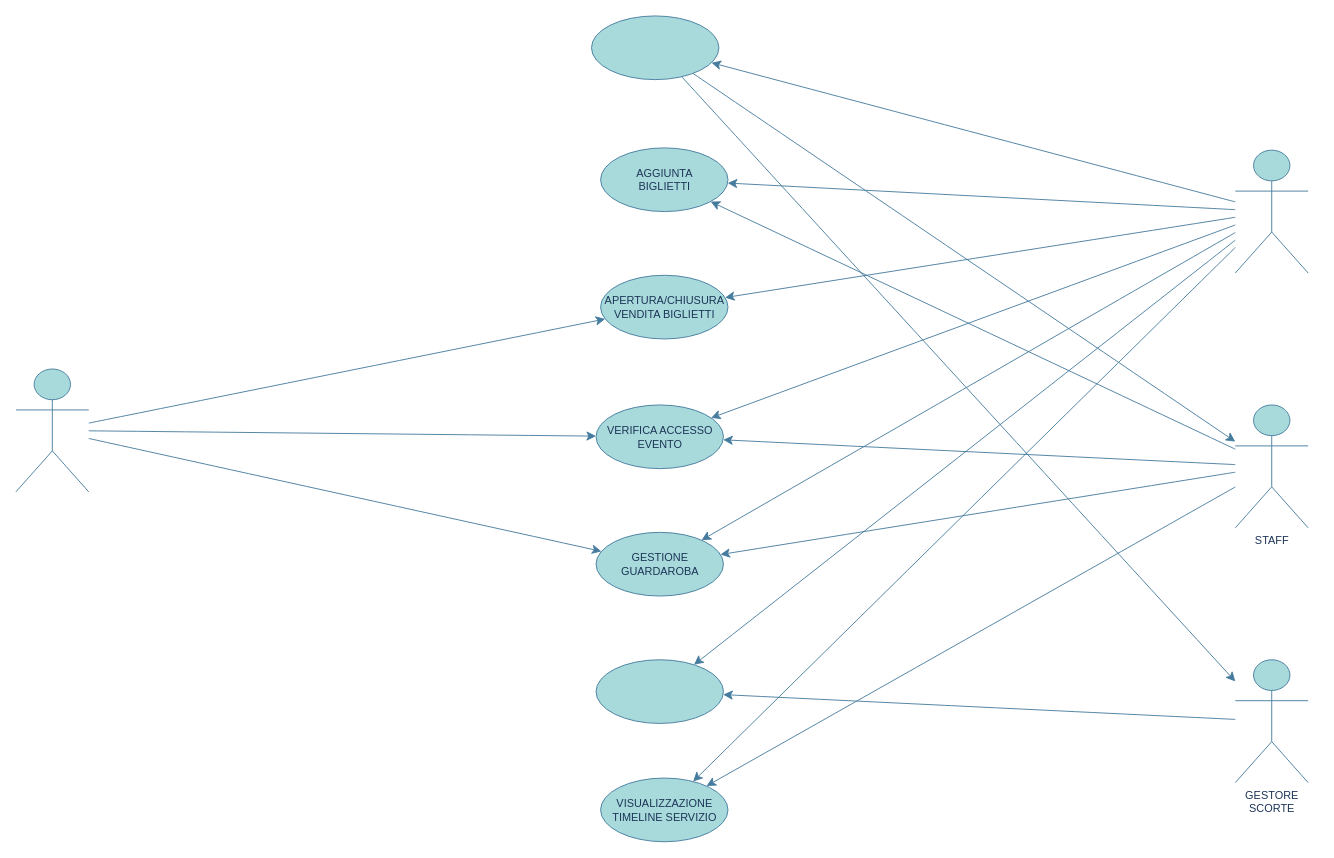
Image size: 1334x858. Some labels were removed from this diagram. Here are the shapes that lost their labels. From the top down, the centre of each, then its label:
(x=655, y=47): CREAZIONE EVENTO
(x=1271, y=211): ORGANIZZATORE
(x=52, y=430): CLIENTE
(x=659, y=691): MONITORAGGIO SCORTE
